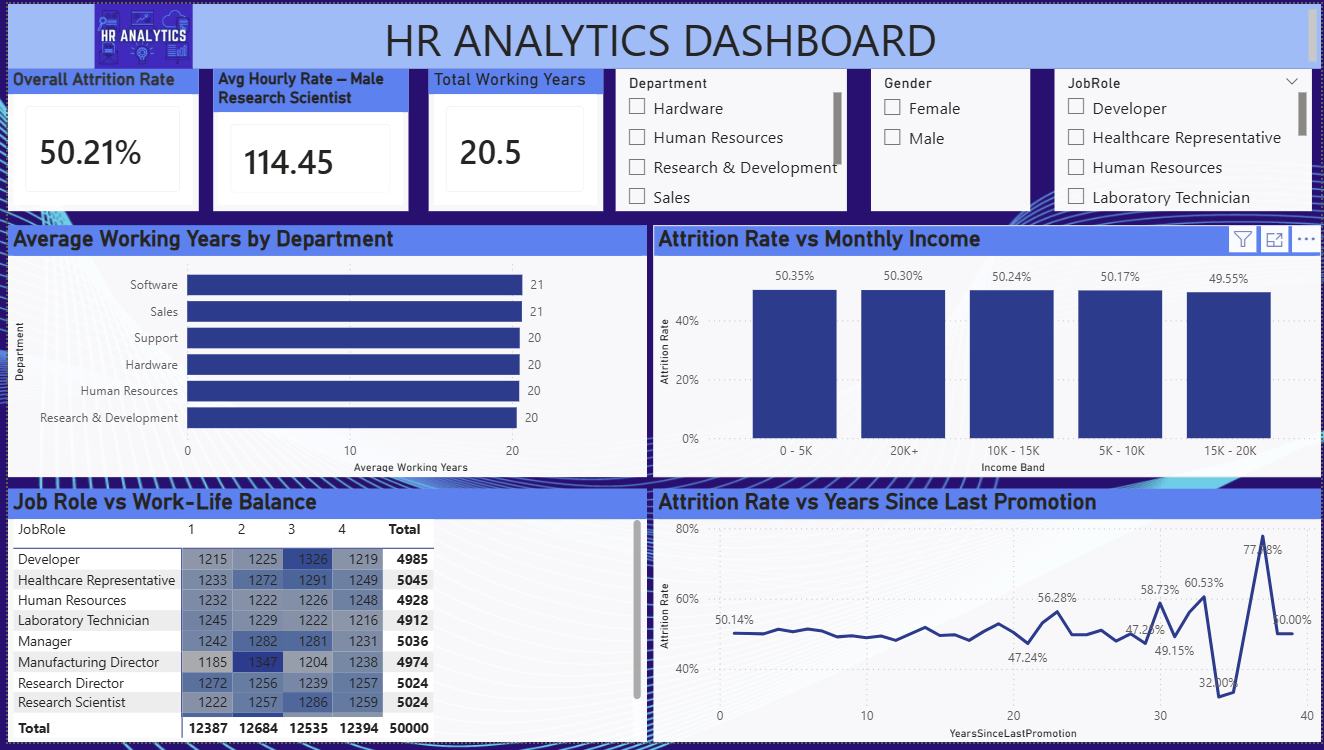

What the dashboard file says about the page in this screenshot:
{"tool":"tableau","page":{"name":"HR ANALYTICS DASBOARD","canvas":[1000,1000],"units":"permille","ordinal":0},"visuals":[{"type":"text","box":[11.7,10.4,986.4,65.6]},{"type":"image","param":"Image/Screenshot_17-2-2025_152133_.jpeg","box":[51.5,12.5,37.9,58.3]},{"type":"worksheet","title":"KPI","mark":"Automatic","box":[10.5,83.3,703.7,164.6]},{"type":"worksheet","title":"Attrition by Gender","mark":"Automatic","rows":["Gender"],"cols":["Calculation_1003885647974400","Calculation_1003885647974400"],"box":[722.2,83.3,275.9,271.9]},{"type":"worksheet","title":"Sheet 3","mark":"Bar","rows":["TotalWorkingYears"],"cols":["Department"],"box":[370.4,257.3,343.2,329.2]},{"type":"worksheet","title":"Sheet 6","mark":"Automatic","rows":["Department"],"cols":["Calculation_1003885648629761"],"box":[10.5,258.3,352.5,328.1]},{"type":"worksheet","title":"Sheet 4","mark":"Bar","rows":["HourlyRate"],"box":[722.8,364.6,274.1,253.1]},{"type":"worksheet","title":"Sheet 7","mark":"Automatic","rows":["JobRole"],"cols":["WorkLifeBalance"],"box":[370.2,603.1,343,287.5]},{"type":"worksheet","title":"Sheet 5","mark":"Square","rows":["Calculation_1003885648629761"],"cols":["MonthlyIncome"],"box":[10.4,607.3,352.8,285.4]},{"type":"worksheet","title":"Sheet 8","mark":"Line","rows":["Calculation_1003885648629761"],"cols":["YearsSinceLastPromotion"],"box":[721.5,635.4,274.2,252.1]}]}

Visuals, with their boxes on the dashboard's canvas, which has no fixed pixel size, in thousandths of its width and height (x1, y1, x2, y2). These are canvas units, not pixel positions in the 1324x750 screenshot, which may show the page scaled, cropped or inside an application window:
text: Rect(12, 10, 998, 76)
image: Rect(52, 12, 89, 71)
"KPI" worksheet: Rect(10, 83, 714, 248)
"Attrition by Gender" worksheet: Rect(722, 83, 998, 355)
"Sheet 3" worksheet (Bar marks): Rect(370, 257, 714, 586)
"Sheet 6" worksheet: Rect(10, 258, 363, 586)
"Sheet 4" worksheet (Bar marks): Rect(723, 365, 997, 618)
"Sheet 7" worksheet: Rect(370, 603, 713, 891)
"Sheet 5" worksheet (Square marks): Rect(10, 607, 363, 893)
"Sheet 8" worksheet (Line marks): Rect(722, 635, 996, 888)
